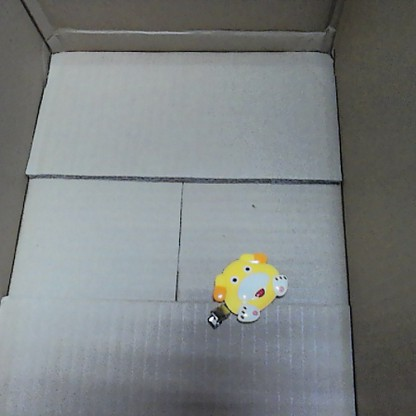dogclip: (205, 248, 289, 330)
